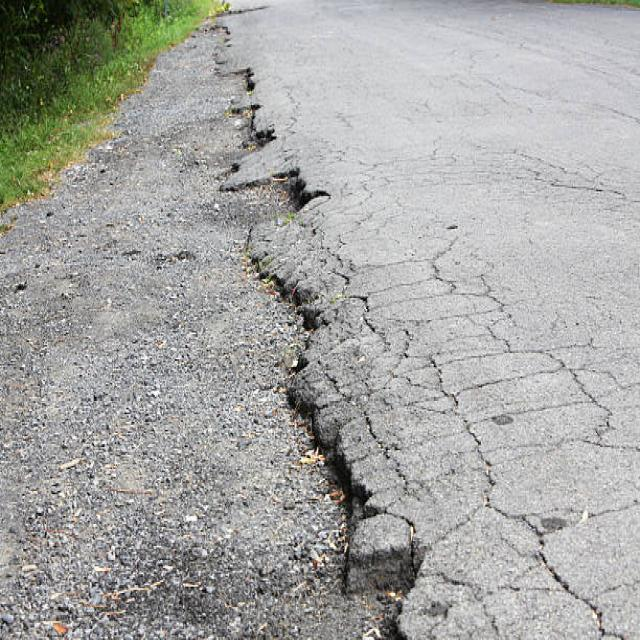Pothole: (136, 82, 577, 640)
